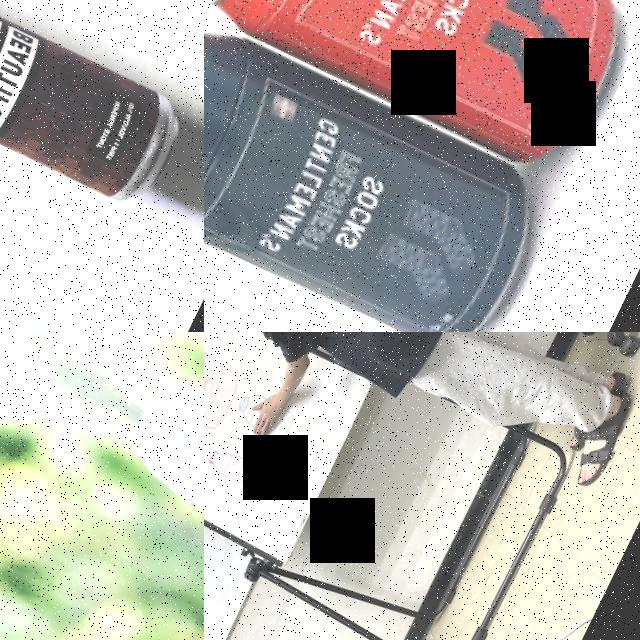can: (204, 0, 569, 332), (204, 0, 640, 188), (0, 0, 193, 212)
cup: (117, 365, 204, 598)
